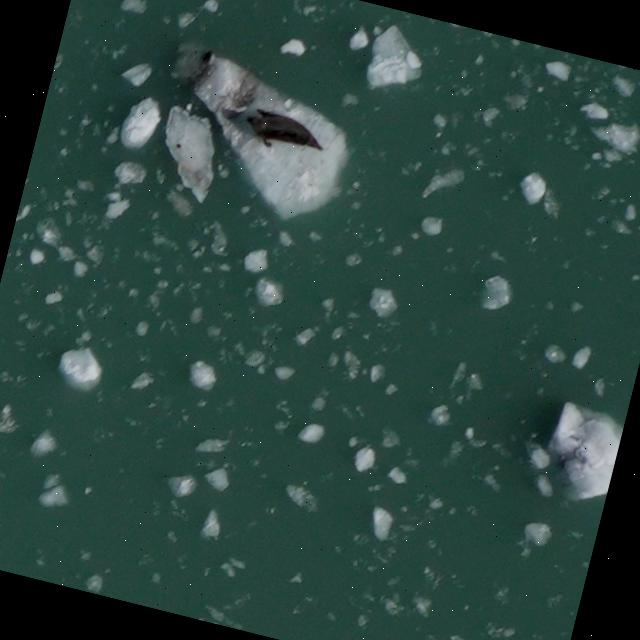seal: (234, 101, 335, 163)
